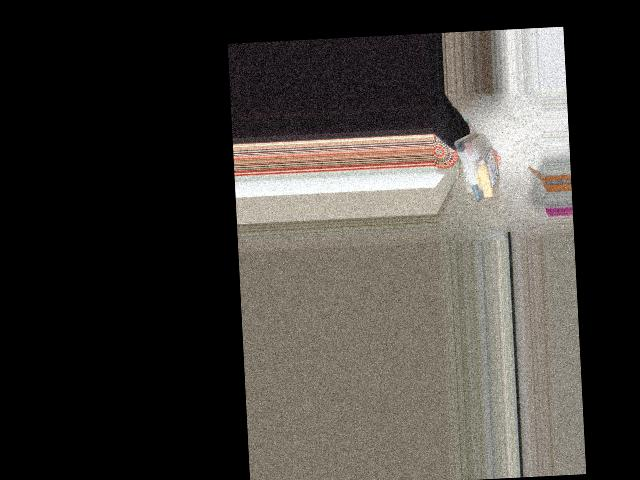cheese: (448, 132, 500, 205)
